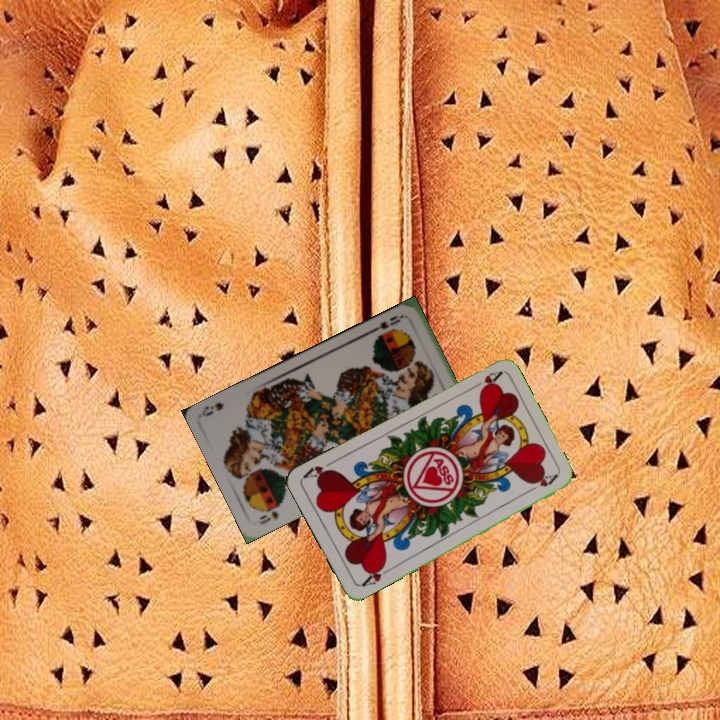HA: (357, 560, 394, 589), (466, 367, 504, 394)
SO: (368, 311, 407, 335), (255, 507, 281, 527)
